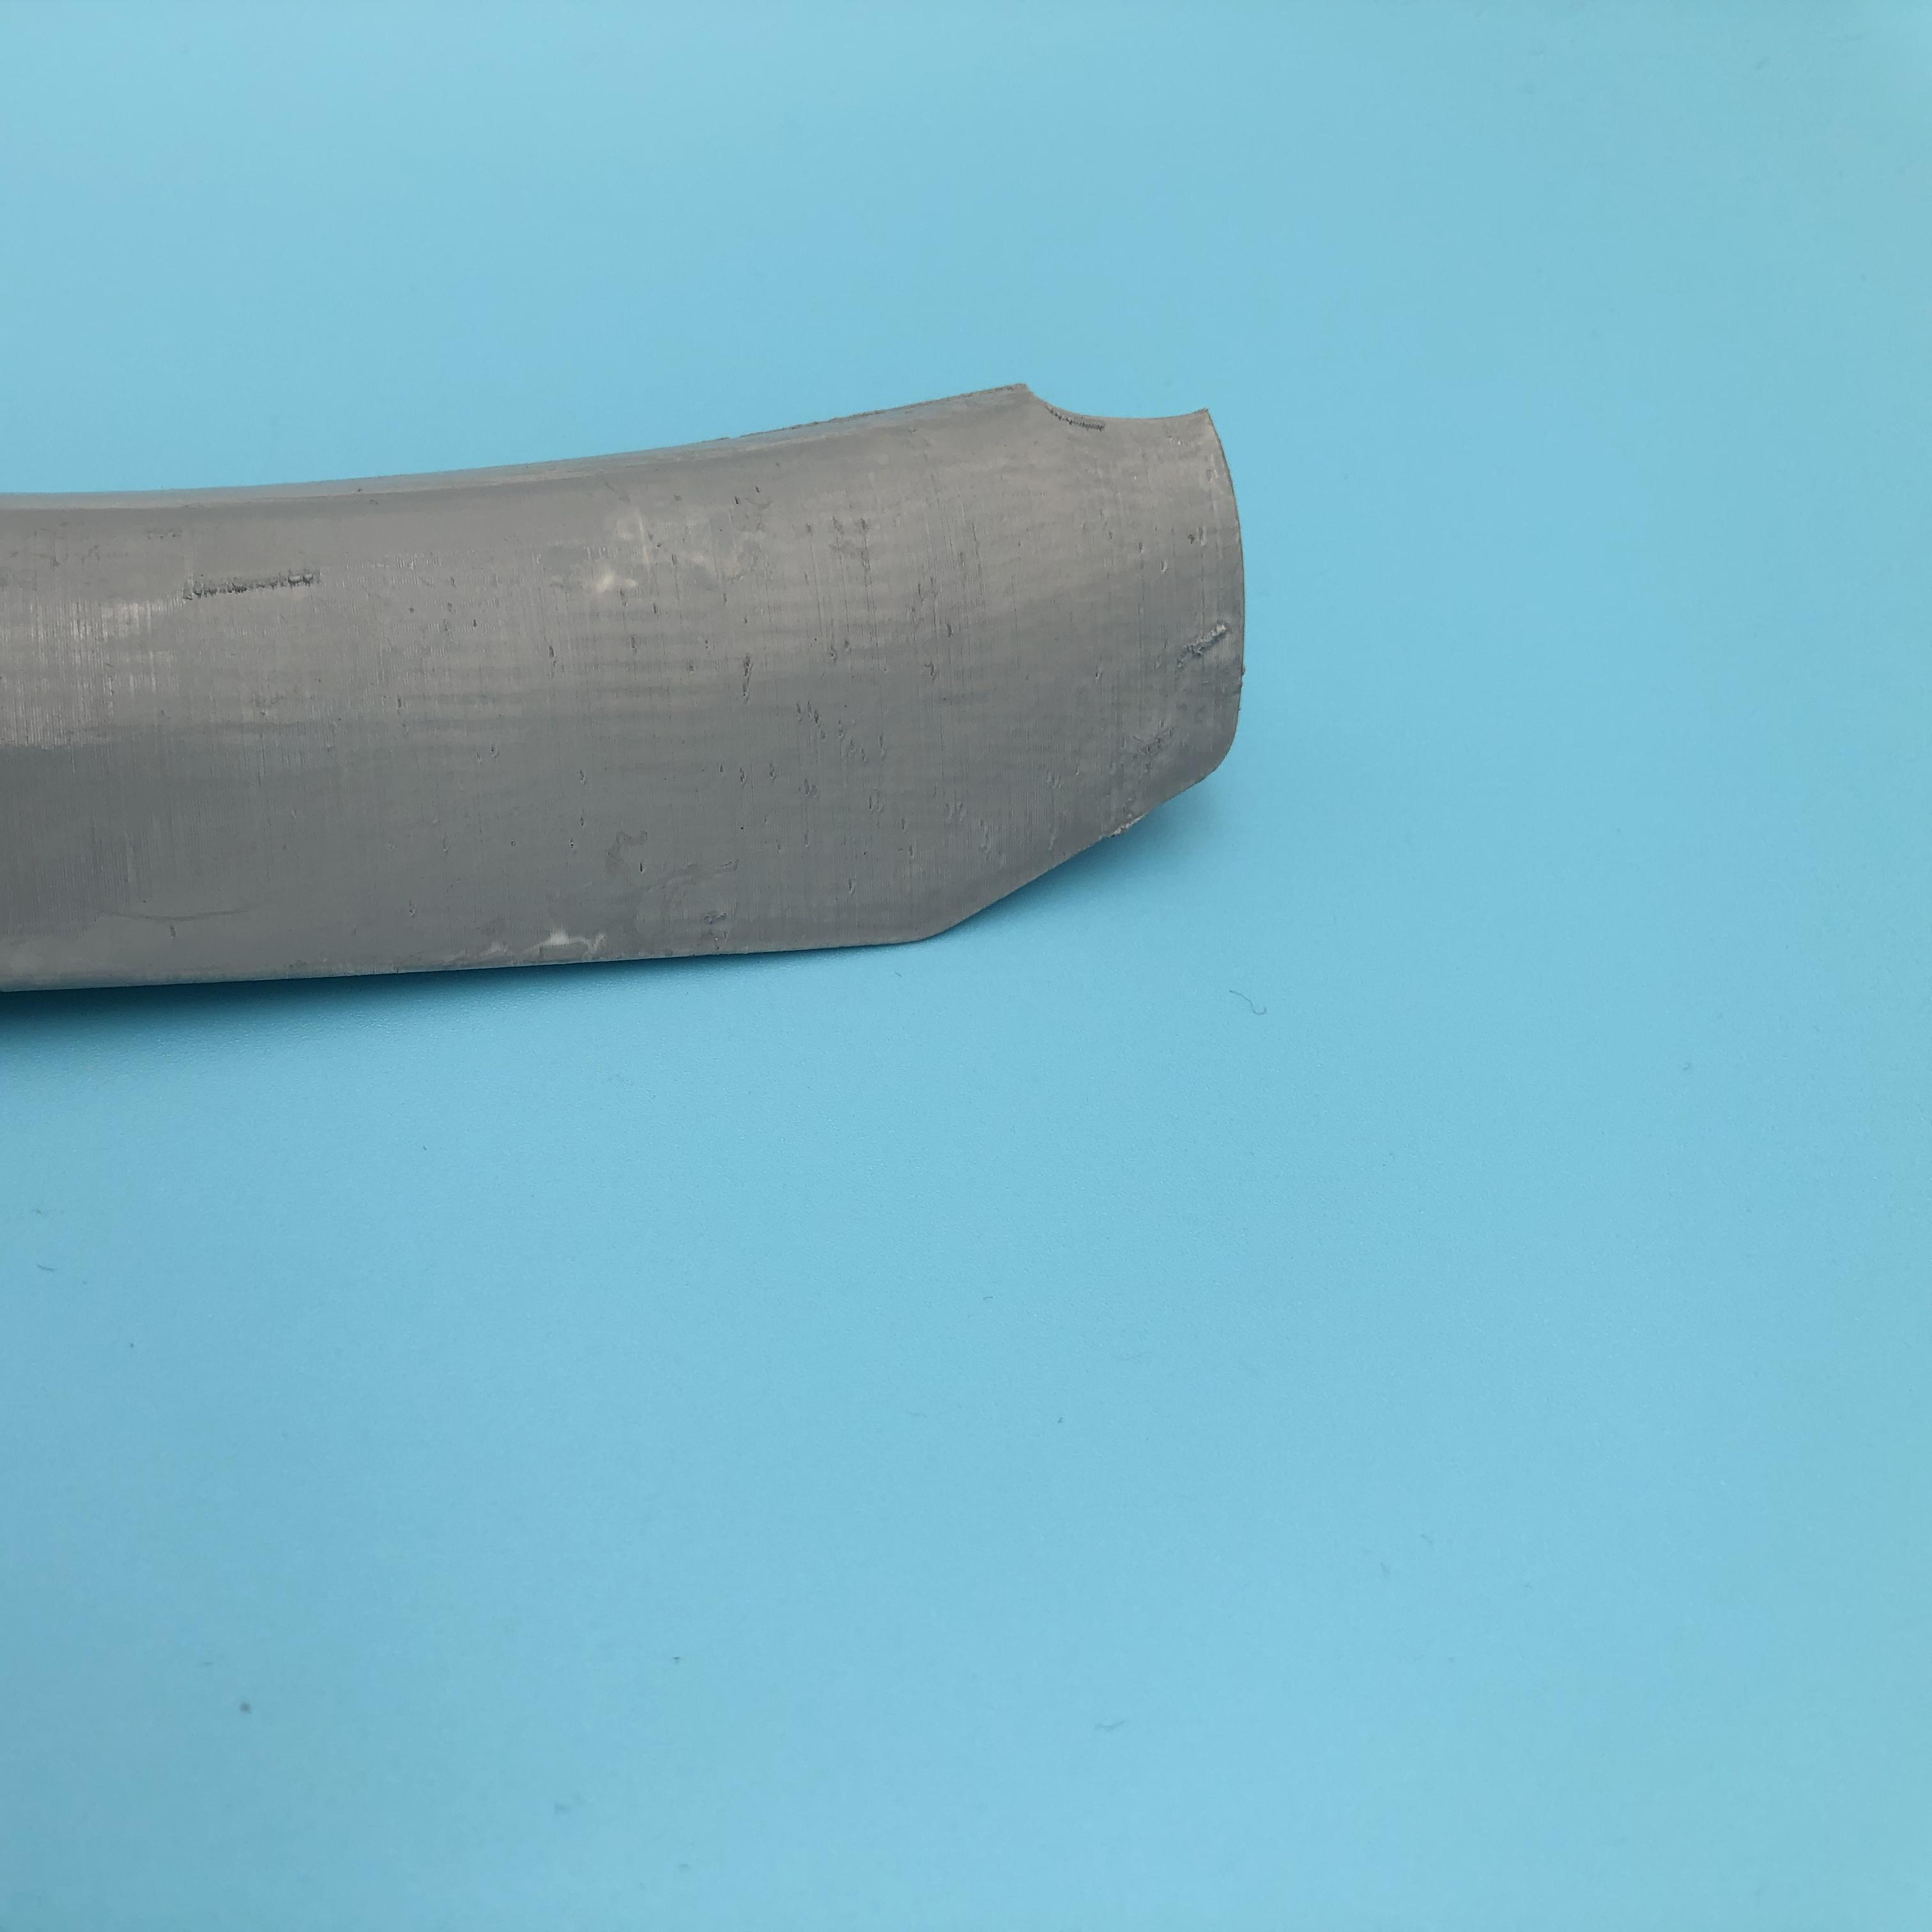fracture: (1005, 375, 1224, 456)
